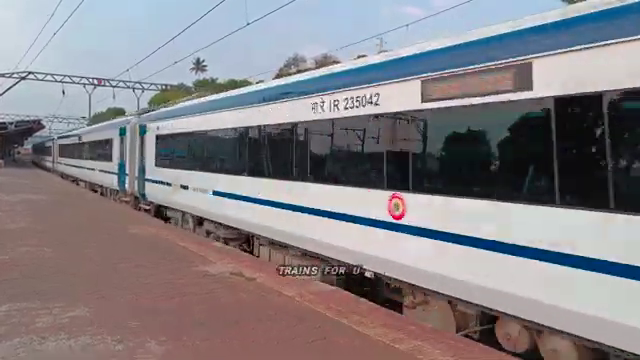Boogie: (300, 89, 388, 112)
